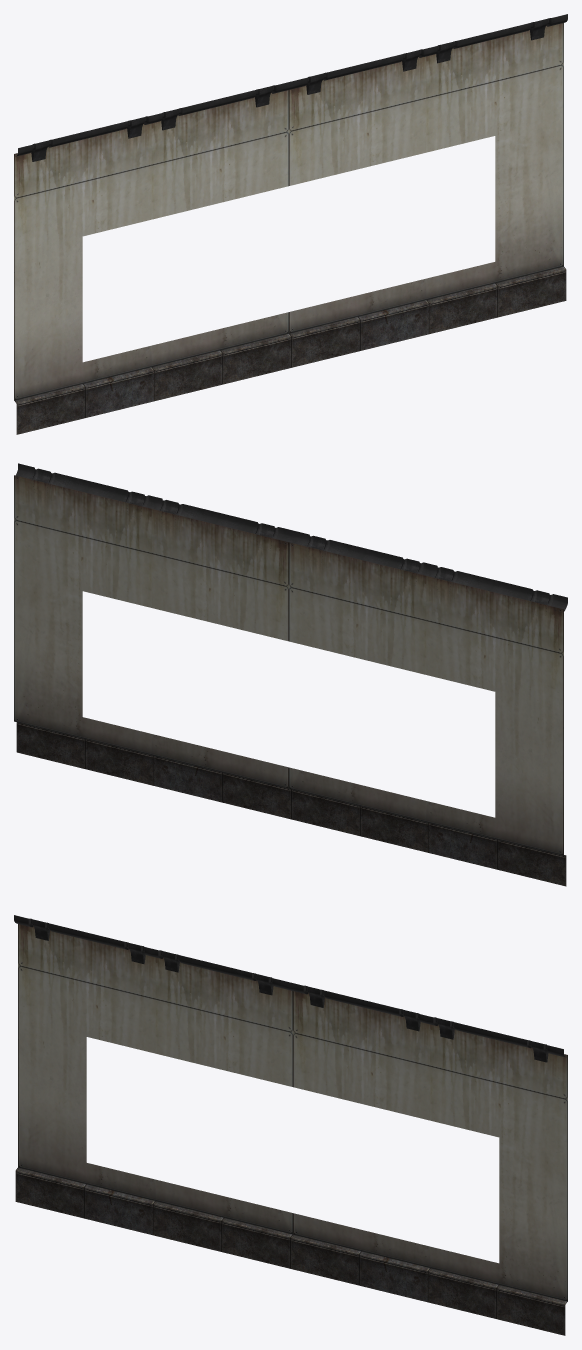
Rendered from lab_flat_biomech_incubator.dae.
The picture shows the model from 3 angles, top to bottom: view 1: azimuth 30°, elevation 25°; view 2: azimuth 150°, elevation 25°; view 3: azimuth 330°, elevation 25°; orthographic projection.
Visible parts, largest first — view 1: polySurface153; view 2: polySurface153; view 3: polySurface153.
Part boxes in pixels (box(x1,y1,x2,y2)): polySurface153: box(14, 14, 567, 434); polySurface153: box(14, 463, 567, 886); polySurface153: box(14, 915, 567, 1335).
Bounding box in the file's own units: 8 × 4 × 0.1056.
